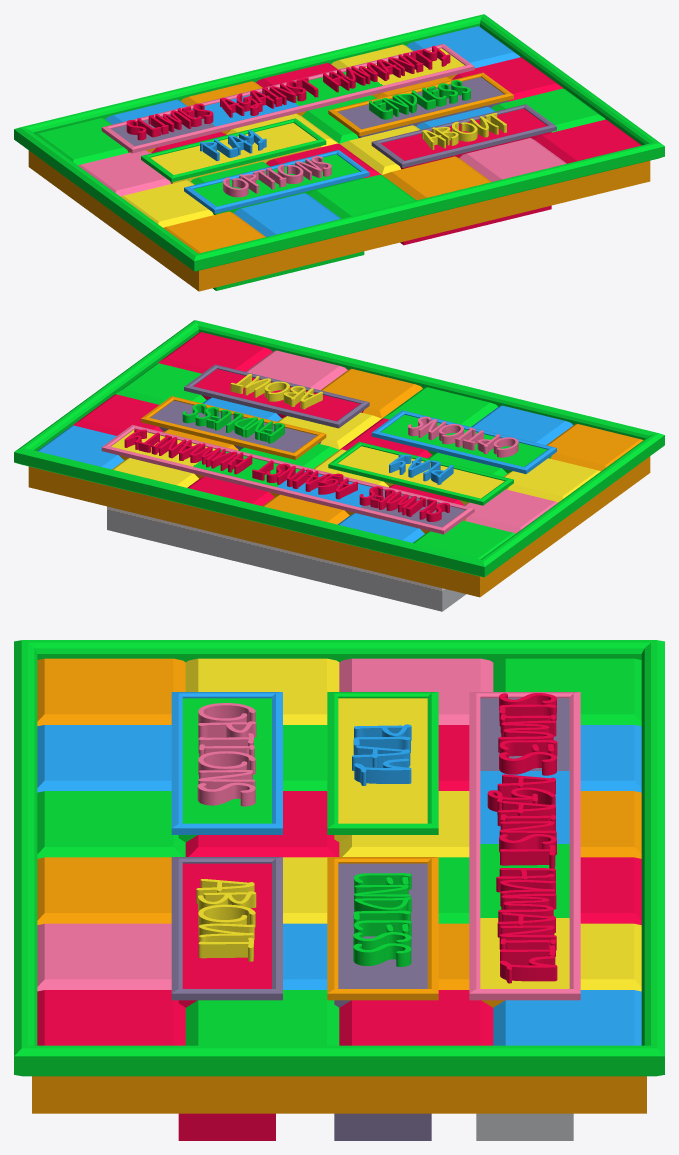
Rendered from MenuStage.fbx.
3 renders of one model, top to bottom at view 1: azimuth 30°, elevation 25°; view 2: azimuth 150°, elevation 25°; view 3: azimuth 270°, elevation 25°, orthographic. The views are drawn at different scales.
Visible parts, largest first — view 1: Cube.012, Cube.013, Text.005, Cube.015, Cube.014, Cube.022, Cube.016, Cube.020, Cube.017, Cube.018, Cube.023, Cube.021 (+5 smaller); view 2: Cube.012, Cube.013, Cube.014, Text.005, Cube.015, Cube.016, Cube.022, Cube.017, Cube.023, Cube.021, Cube.019, Text.008 (+5 smaller); view 3: Cube.012, Cube.013, Text.005, Cube.014, Cube.022, Cube.018, Cube.015, Cube.016, Cube.020, Text.008, Text.007, Cube.019 (+5 smaller).
Part boxes in pixels (x1=…): Cube.012: x1=28, y1=26, x2=650, y2=291; Cube.013: x1=14, y1=14, x2=664, y2=271; Text.005: x1=126, y1=46, x2=450, y2=140; Cube.015: x1=101, y1=44, x2=474, y2=153; Cube.014: x1=111, y1=48, x2=464, y2=152; Cube.022: x1=381, y1=108, x2=551, y2=245; Cube.016: x1=150, y1=123, x2=321, y2=183; Cube.020: x1=193, y1=154, x2=364, y2=290; Cube.017: x1=141, y1=118, x2=326, y2=182; Cube.018: x1=338, y1=77, x2=508, y2=137; Cube.023: x1=371, y1=104, x2=556, y2=167; Cube.021: x1=184, y1=150, x2=369, y2=213; Cube.012: x1=28, y1=332, x2=650, y2=597; Cube.013: x1=14, y1=320, x2=664, y2=577; Cube.014: x1=107, y1=429, x2=466, y2=611; Text.005: x1=124, y1=429, x2=449, y2=521; Cube.015: x1=101, y1=425, x2=474, y2=534; Cube.016: x1=338, y1=446, x2=508, y2=504; Cube.022: x1=193, y1=369, x2=363, y2=421; Cube.017: x1=328, y1=441, x2=513, y2=505; Cube.023: x1=184, y1=364, x2=369, y2=428; Cube.021: x1=371, y1=410, x2=556, y2=473; Cube.019: x1=141, y1=396, x2=326, y2=459; Text.008: x1=408, y1=416, x2=518, y2=457; Cube.012: x1=32, y1=658, x2=646, y2=1113; Cube.013: x1=14, y1=640, x2=664, y2=1076; Text.005: x1=487, y1=693, x2=557, y2=983; Cube.014: x1=476, y1=698, x2=573, y2=1140; Cube.022: x1=178, y1=863, x2=275, y2=1140; Cube.018: x1=334, y1=863, x2=431, y2=1140; Cube.015: x1=469, y1=692, x2=580, y2=1000; Cube.016: x1=334, y1=698, x2=427, y2=842; Cube.020: x1=178, y1=698, x2=271, y2=842; Text.008: x1=197, y1=703, x2=256, y2=806; Text.007: x1=353, y1=873, x2=411, y2=966; Cube.019: x1=327, y1=857, x2=438, y2=1000.
Size of the model in its own units: 995 by 181 by 660.
